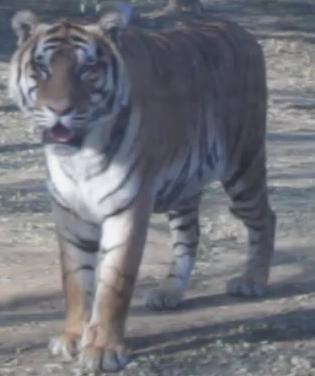tiger: (9, 4, 274, 372)
